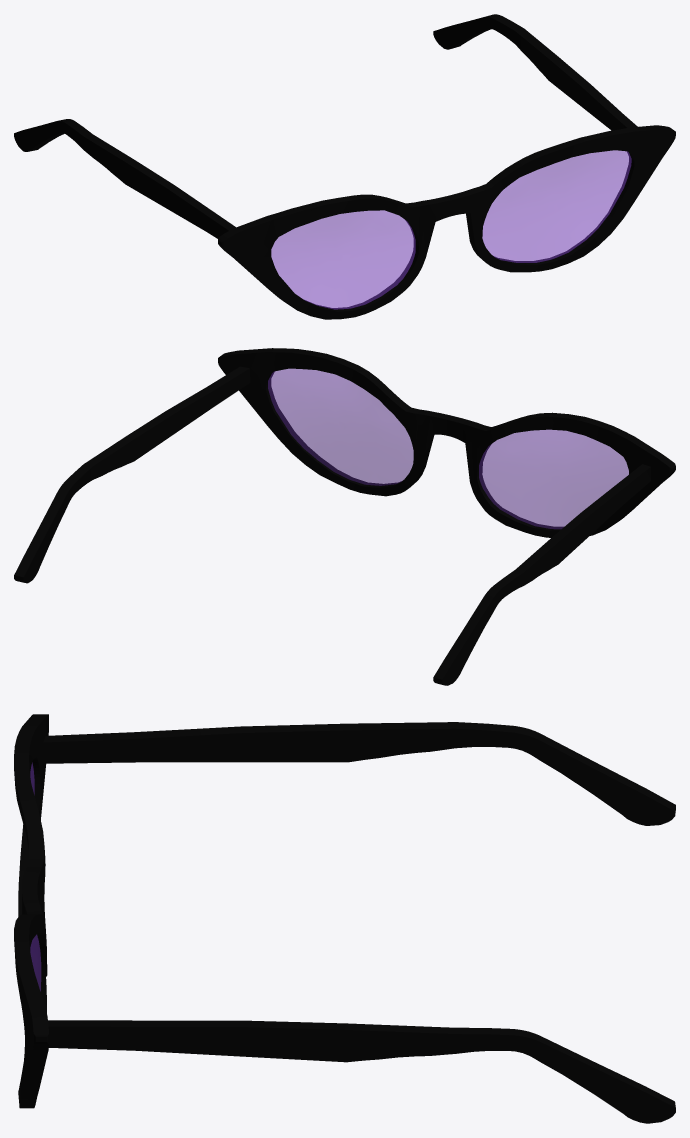
Rendered from cateyeglass1.glb.
3 renders of one model, top to bottom at view 1: azimuth 30°, elevation 25°; view 2: azimuth 150°, elevation 25°; view 3: azimuth 270°, elevation 25°, orthographic. The views are drawn at different scales.
Parts seen in each view (by area): view 1: Object_7.008, Object_5; view 2: Object_7.008, Object_5; view 3: Object_7.008.
Part boxes in pixels (x1,y1,x2,y2): Object_7.008: (14, 14, 675, 319); Object_5: (271, 150, 631, 309); Object_7.008: (14, 348, 675, 685); Object_5: (268, 368, 628, 529); Object_7.008: (14, 714, 675, 1123).
Size of the model in its own units: 0.8504 by 0.219 by 0.7402.
Materials: 2 (1 with a texture image).
